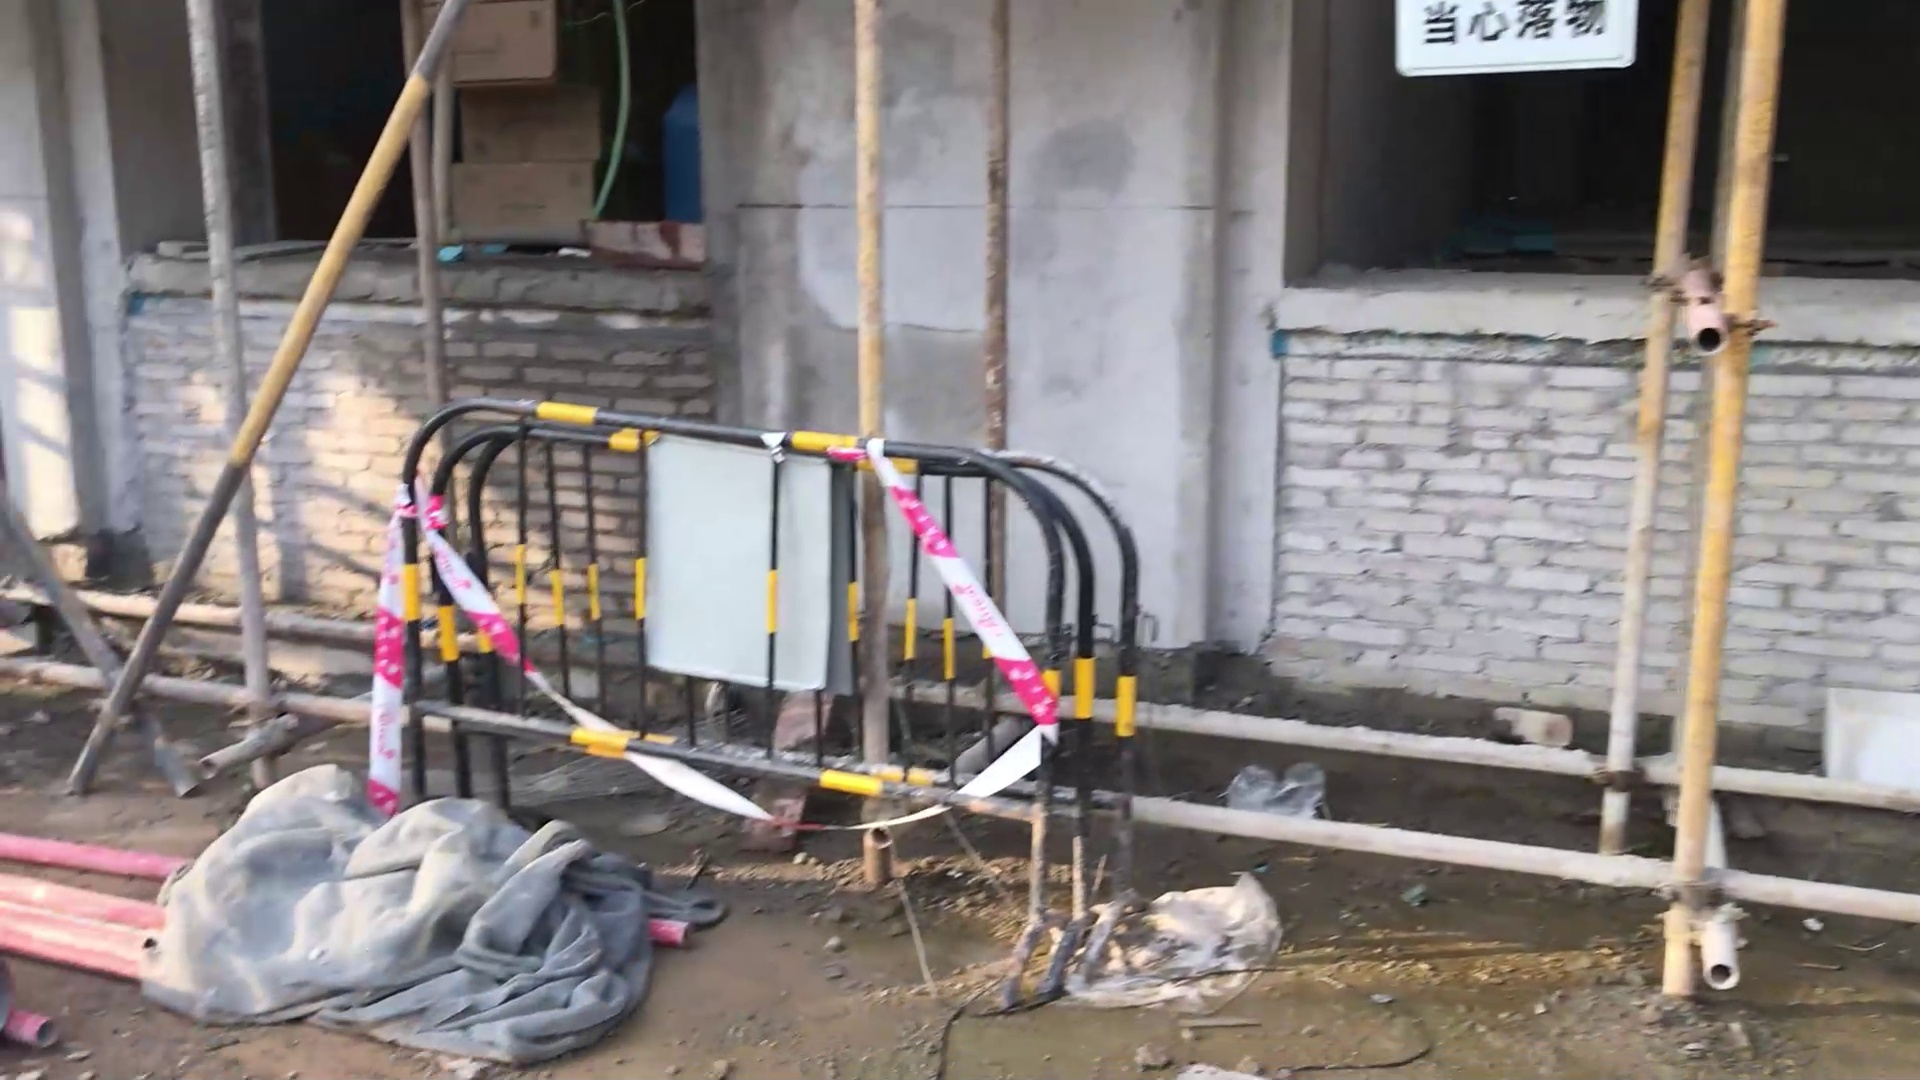fence: (392, 396, 1149, 1015)
slogan: (1396, 1, 1635, 75)
